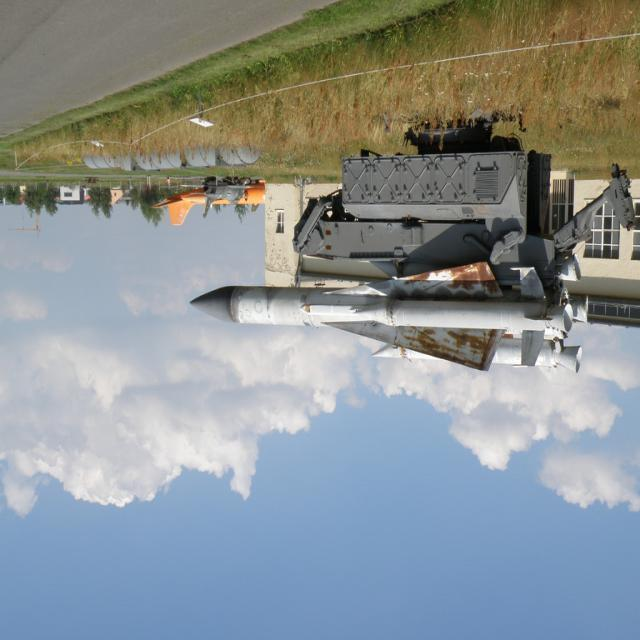missile: (186, 256, 594, 381)
